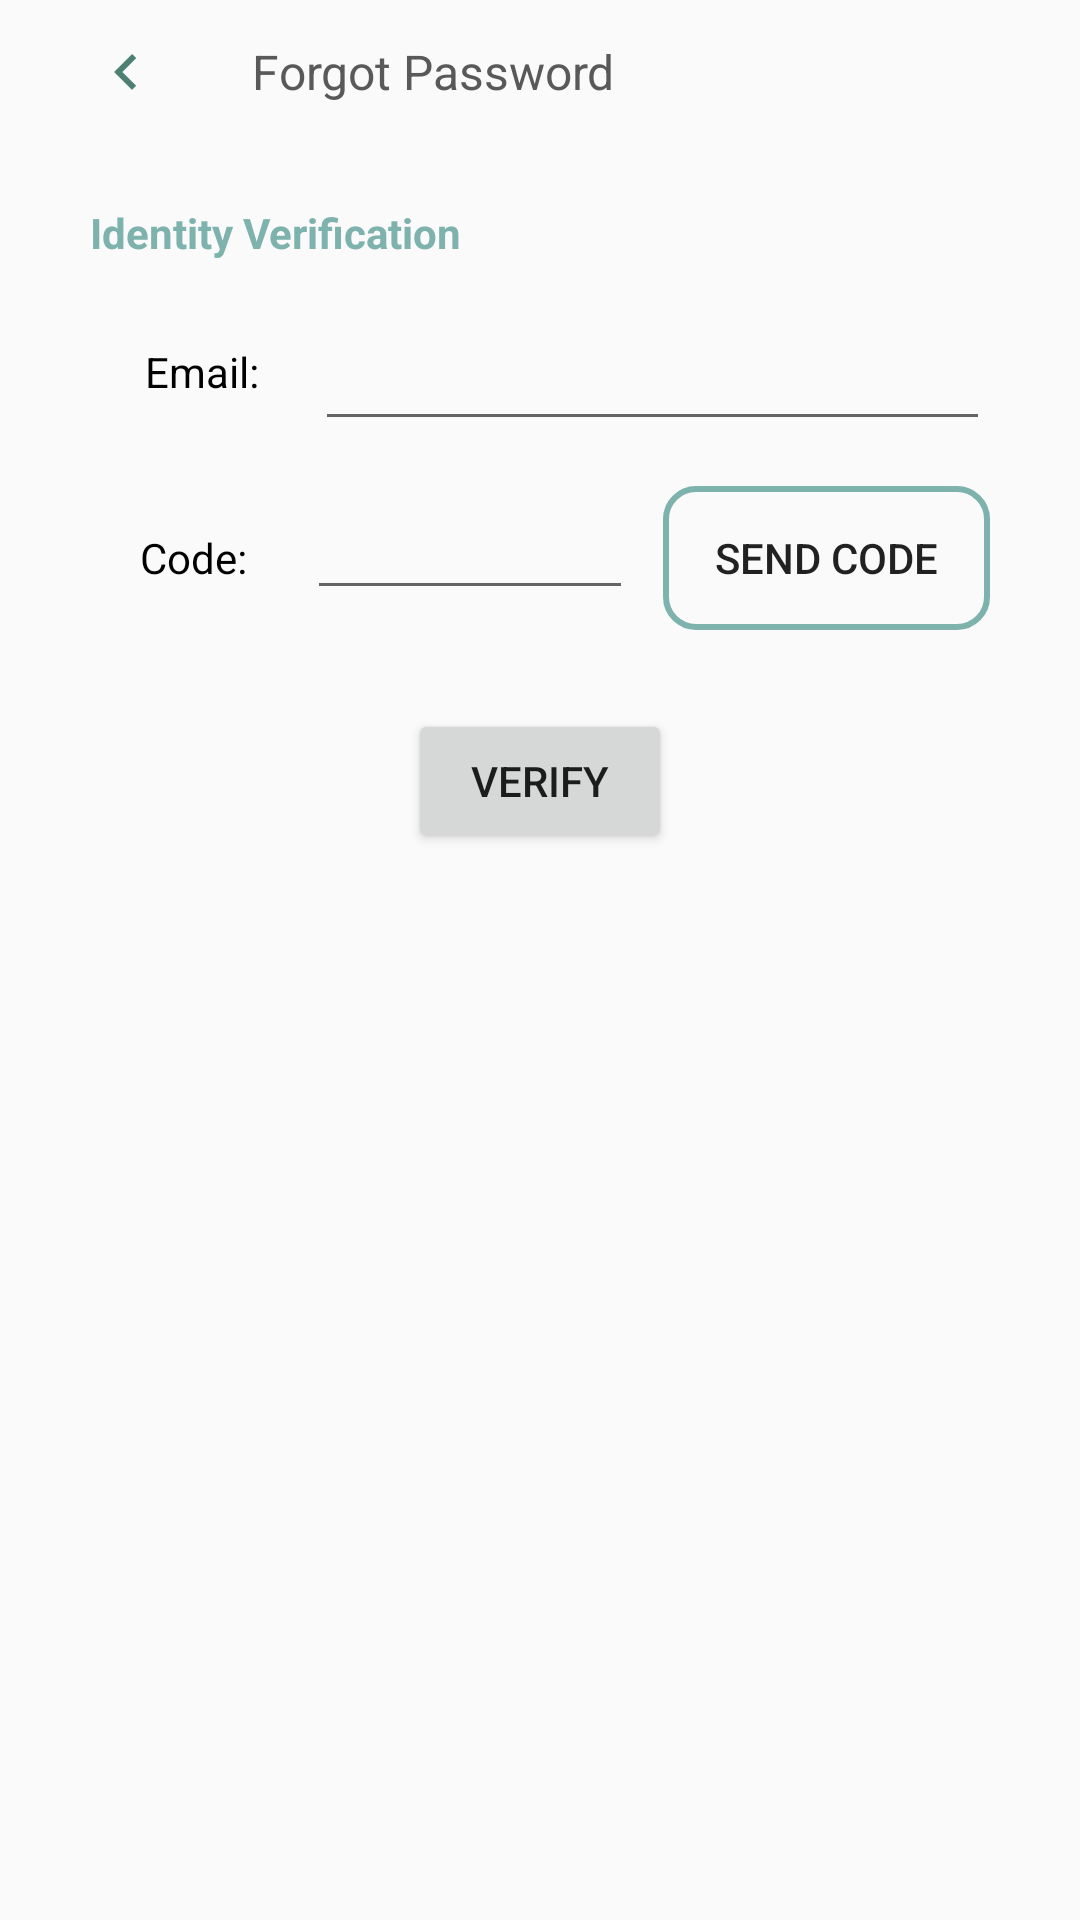

Icon bounding boxes for this 1080px x 1920px phone screenshot, format (x1, y1, x2, y2):
keyboard arrow left: (114, 54, 136, 90)
